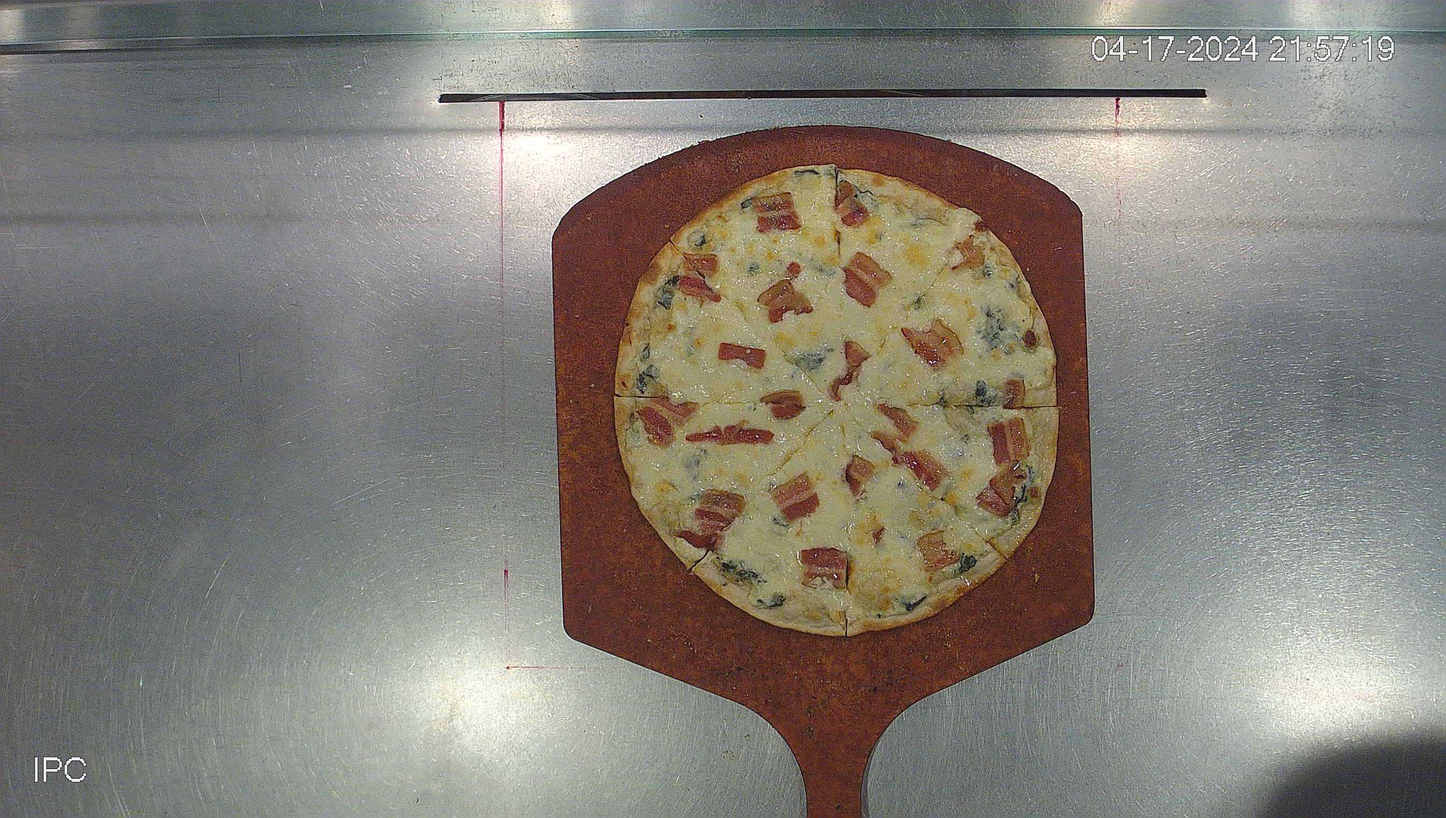pepporoni: (613, 164, 1059, 635)
